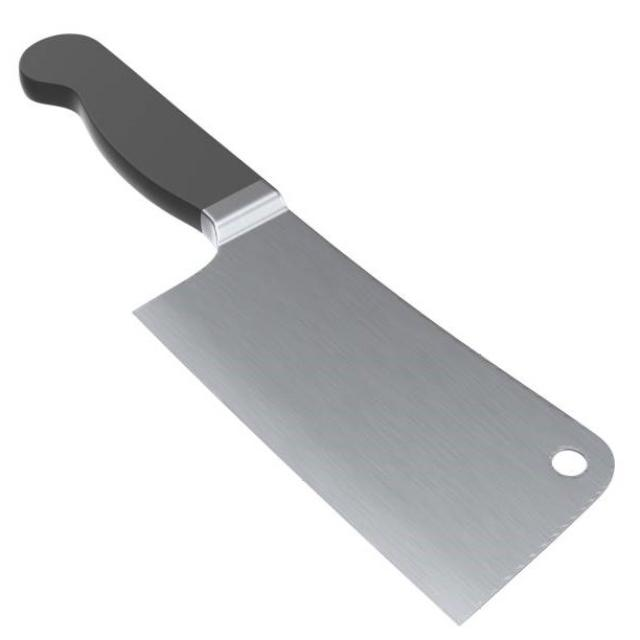knife: (4, 20, 640, 640)
